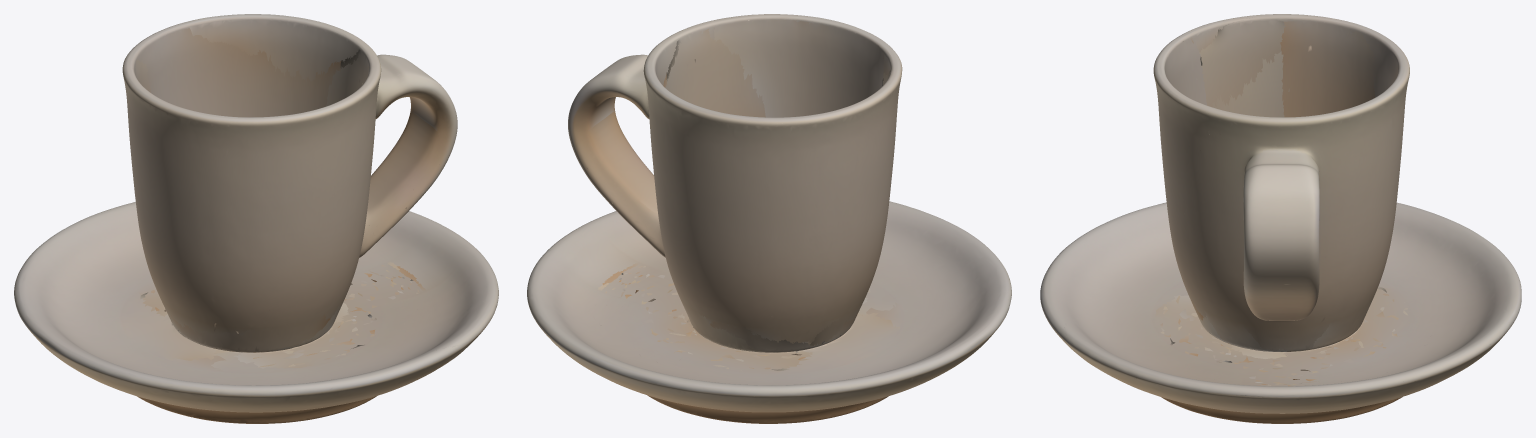
File: foodify-mug-s50.glb
3 renders of one model, left to right at view 1: azimuth 30°, elevation 25°; view 2: azimuth 150°, elevation 25°; view 3: azimuth 270°, elevation 25°, orthographic.
Visible parts, largest first — view 1: texture_pbr_v128; view 2: texture_pbr_v128; view 3: texture_pbr_v128.
Boxes of the visible parts, <box> form: texture_pbr_v128: <box>14,14,498,423</box>; texture_pbr_v128: <box>527,14,1011,423</box>; texture_pbr_v128: <box>1040,14,1521,423</box>.
Size of the model in its own units: 1.12 by 0.7622 by 1.12.
Materials: 1 (1 with a texture image).
